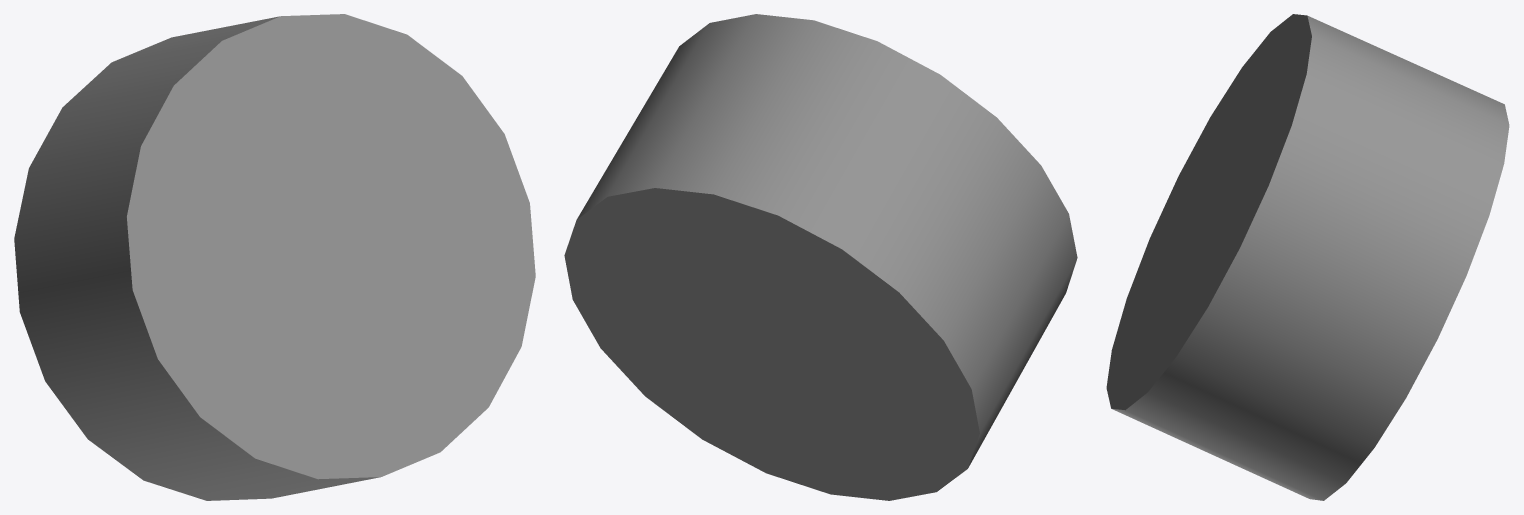
The model's file is TuboTanque_2.fbx.
3 renders of one model, left to right at view 1: azimuth 30°, elevation 25°; view 2: azimuth 150°, elevation 25°; view 3: azimuth 270°, elevation 25°, orthographic. The views are drawn at different scales.
Parts seen in each view (by area): view 1: TuboTanque_2; view 2: TuboTanque_2; view 3: TuboTanque_2.
Part boxes in pixels (bbox=[...]): TuboTanque_2: bbox=[14, 14, 535, 500]; TuboTanque_2: bbox=[564, 14, 1077, 500]; TuboTanque_2: bbox=[1106, 14, 1509, 500].
Bounding box in the file's own units: 127 × 143 × 117.
